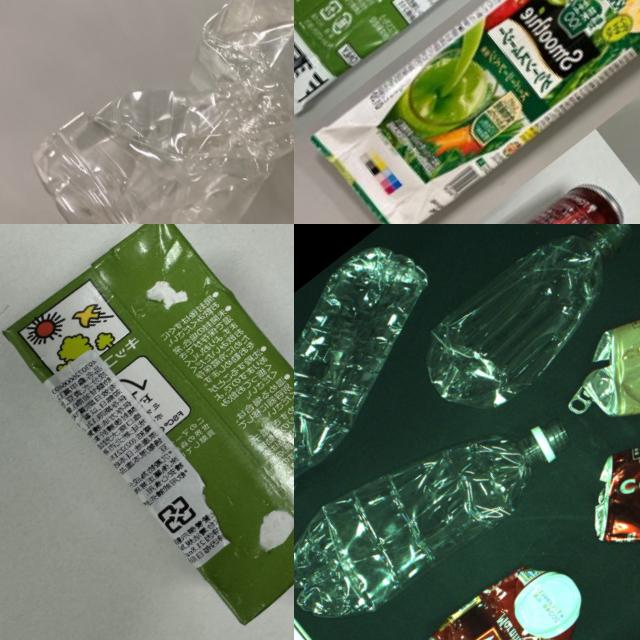Aluminium Foil: (0, 224, 294, 628), (294, 0, 640, 224), (294, 0, 640, 131)
Can: (406, 541, 605, 640), (563, 254, 640, 457), (381, 165, 640, 224), (565, 386, 640, 583)
Transparent Plastic Bottle: (294, 353, 597, 640), (16, 0, 294, 224), (294, 224, 496, 527), (403, 224, 640, 432)
